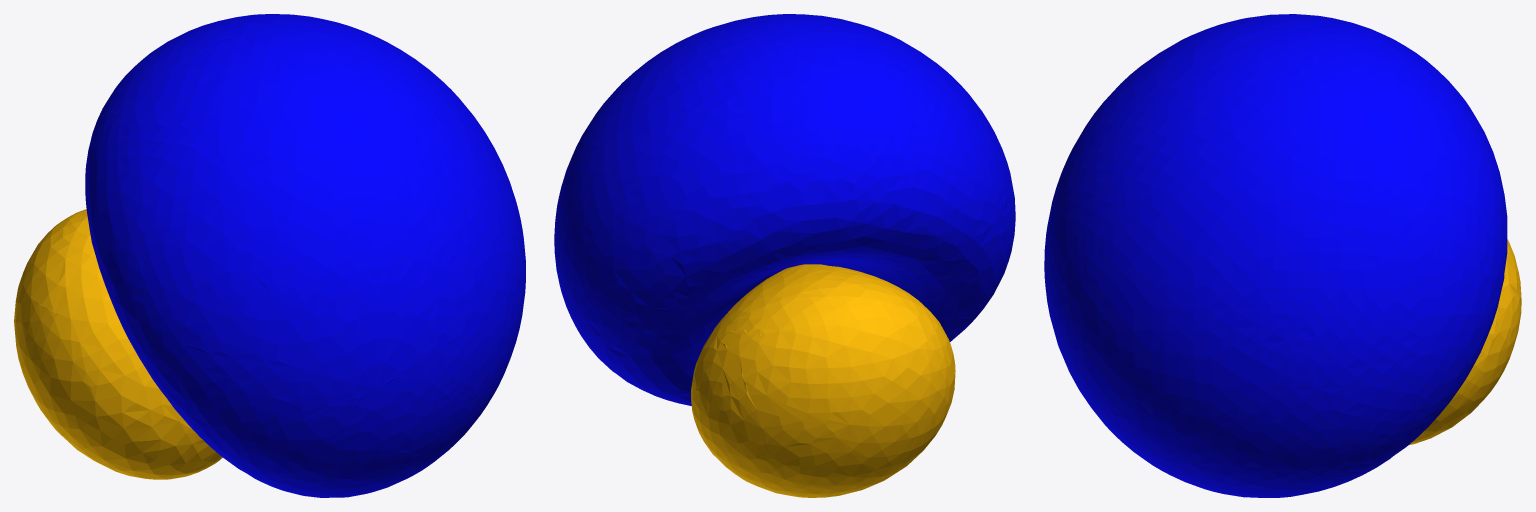
3 renders of one model, left to right at view 1: azimuth 30°, elevation 25°; view 2: azimuth 150°, elevation 25°; view 3: azimuth 270°, elevation 25°, orthographic. The views are drawn at different scales.
Bounding box in the file's own units: 11.83 × 11.83 × 11.83.
